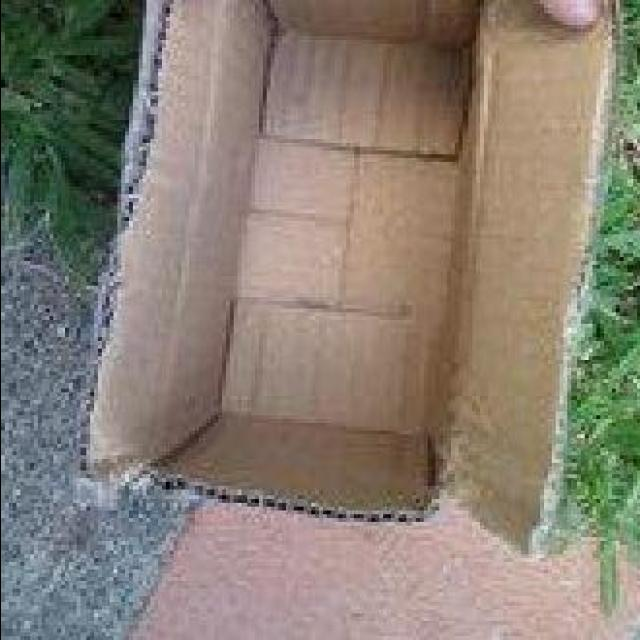-Recyclables - paper box-: (73, 0, 623, 560)
